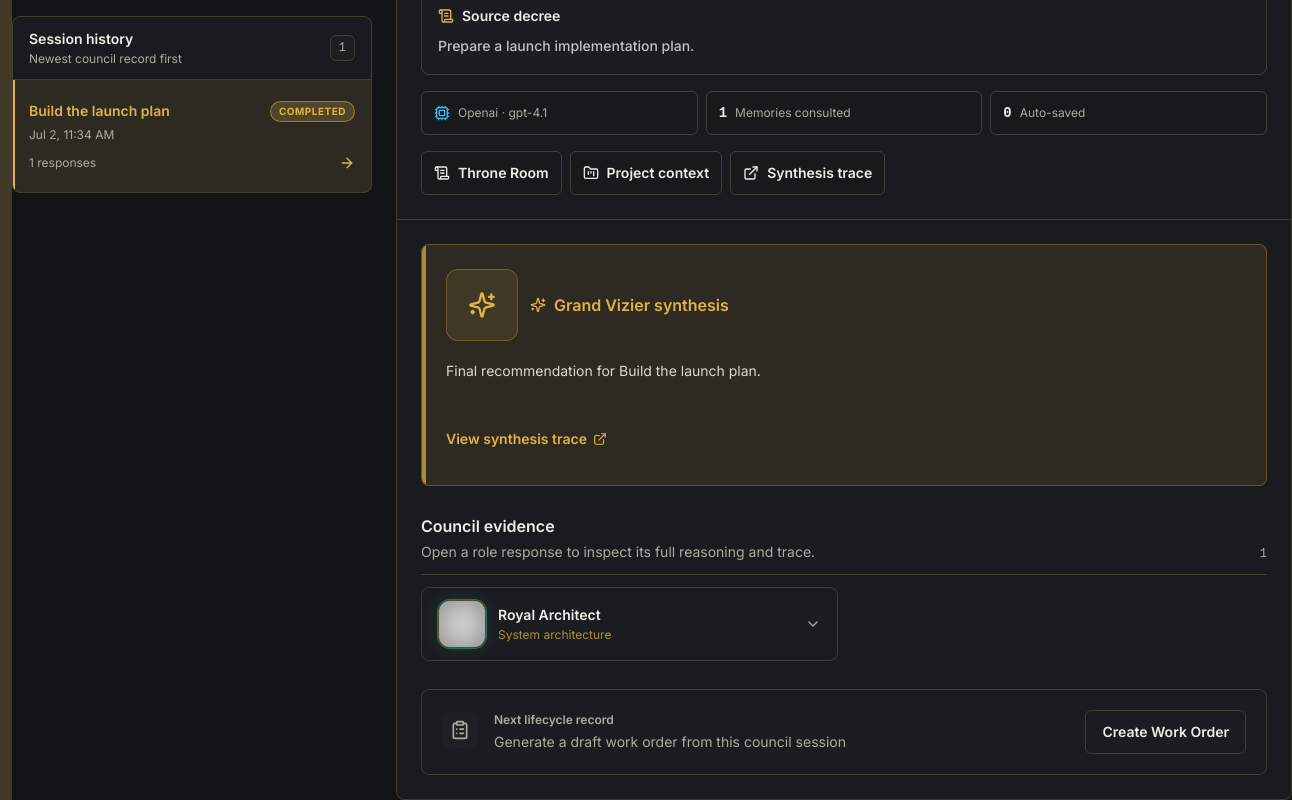
Test case: CouncilPage › keeps work-order creation explicit
(page scrolled)
Click the button "Create Work Order": coordinates (1166, 732) [1085,710,1246,754]
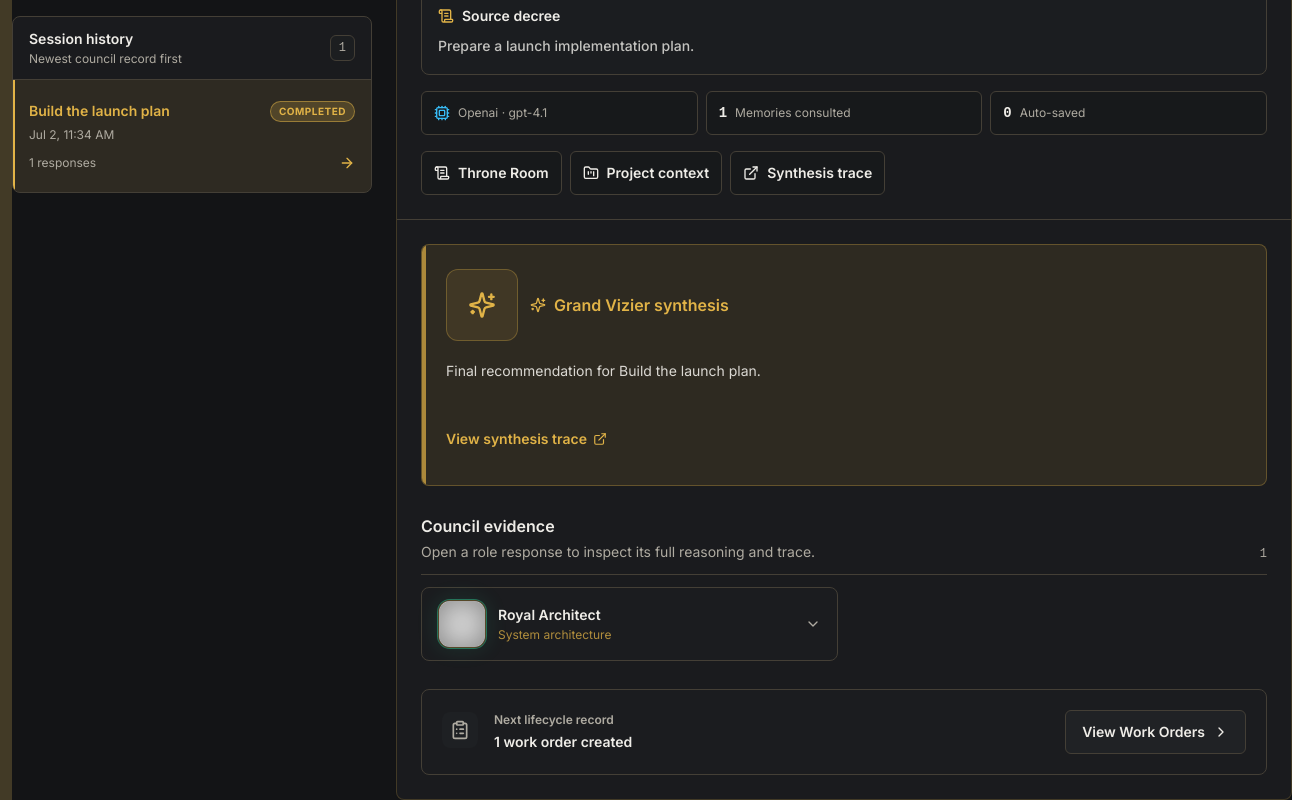
Check: the text "1 work order created" is shown, box [494,732,632,752]
